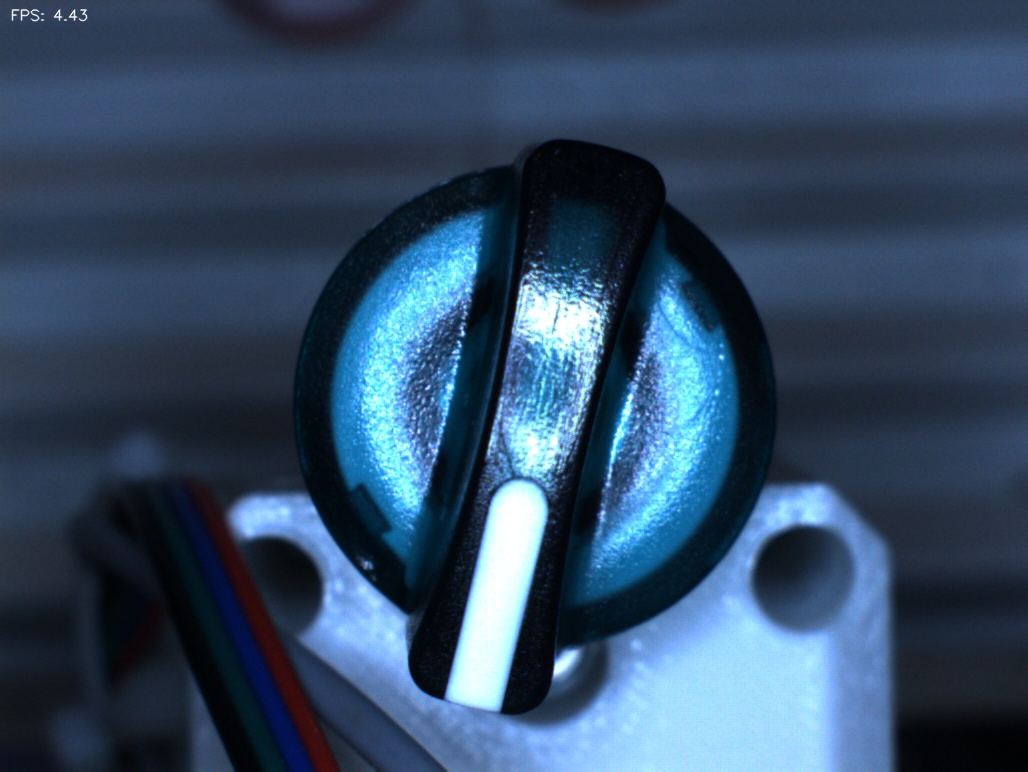Choc: (333, 530, 399, 596)
